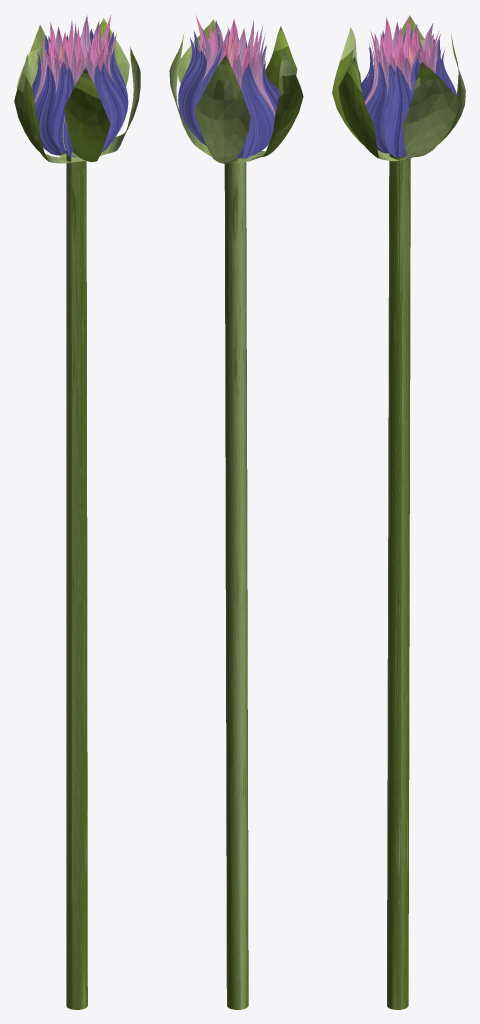
The model's file is flor_00.fbx.
3 renders of one model, left to right at view 1: azimuth 30°, elevation 25°; view 2: azimuth 150°, elevation 25°; view 3: azimuth 330°, elevation 25°, orthographic.
Visible parts, largest first — view 1: Plane.068; view 2: Plane.068; view 3: Plane.068.
Boxes of the visible parts, x1,y1,x2,y2 form: Plane.068: (14, 15, 140, 1009); Plane.068: (169, 14, 303, 1009); Plane.068: (332, 14, 465, 1009).
Size of the model in its own units: 47.56 by 389 by 44.39.
Materials: 2 (2 with a texture image).
